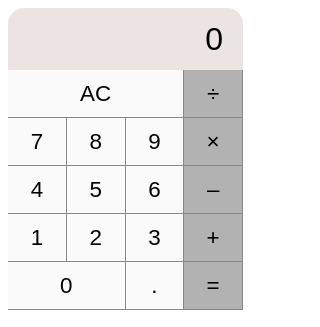
Test case: Teste do componente <Calculator /> › Deve adicionar algo ao campo
This screenshot has width=320, height=327.
Click the button "2": click(97, 238) [67,214,126,262]
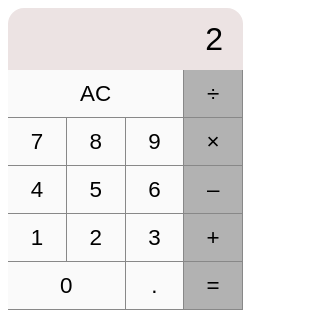
Check: the text with test id "display" reads "2", box [8,8,243,70]
